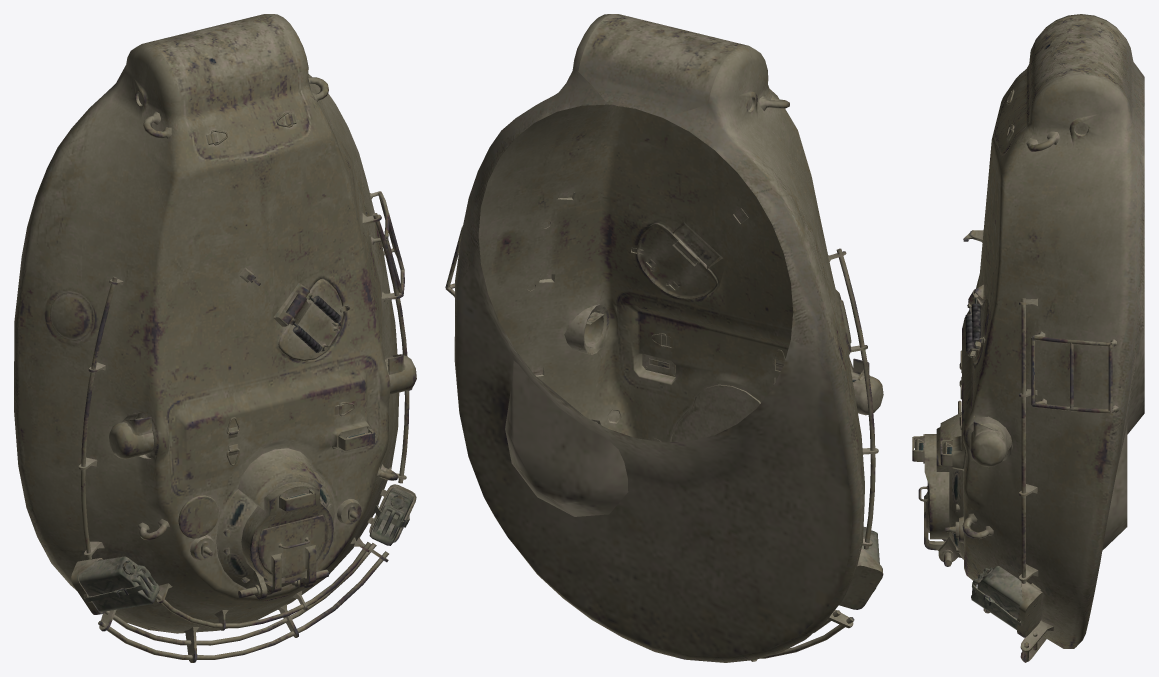
Rendered from Turret_01.glb.
The picture shows the model from 3 angles, left to right: view 1: azimuth 30°, elevation 25°; view 2: azimuth 150°, elevation 25°; view 3: azimuth 270°, elevation 25°; orthographic projection. The views are drawn at different scales.
Visible parts, largest first — view 1: set_0_group_0; view 2: set_0_group_0; view 3: set_0_group_0.
Boxes of the visible parts, x1,y1,x2,y2 form: set_0_group_0: (14, 14, 416, 662); set_0_group_0: (445, 14, 883, 662); set_0_group_0: (912, 14, 1144, 662).
Bounding box in the file's own units: 3.1 × 4.64 × 1.64.
Materials: 1 (1 with a texture image).
